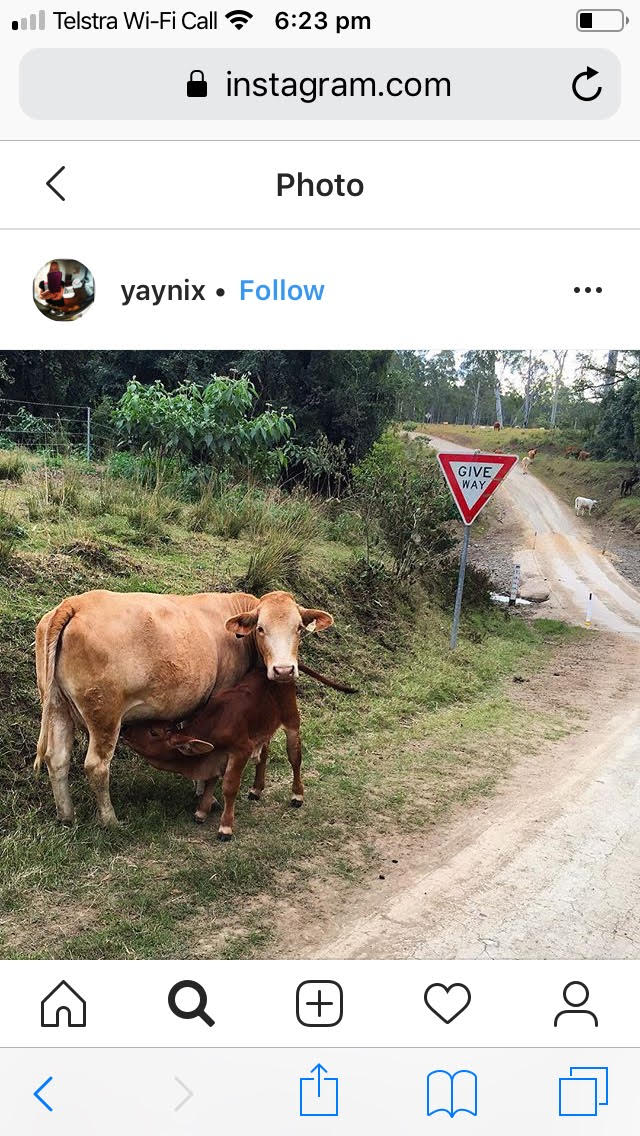giveway: (435, 448, 520, 528)
